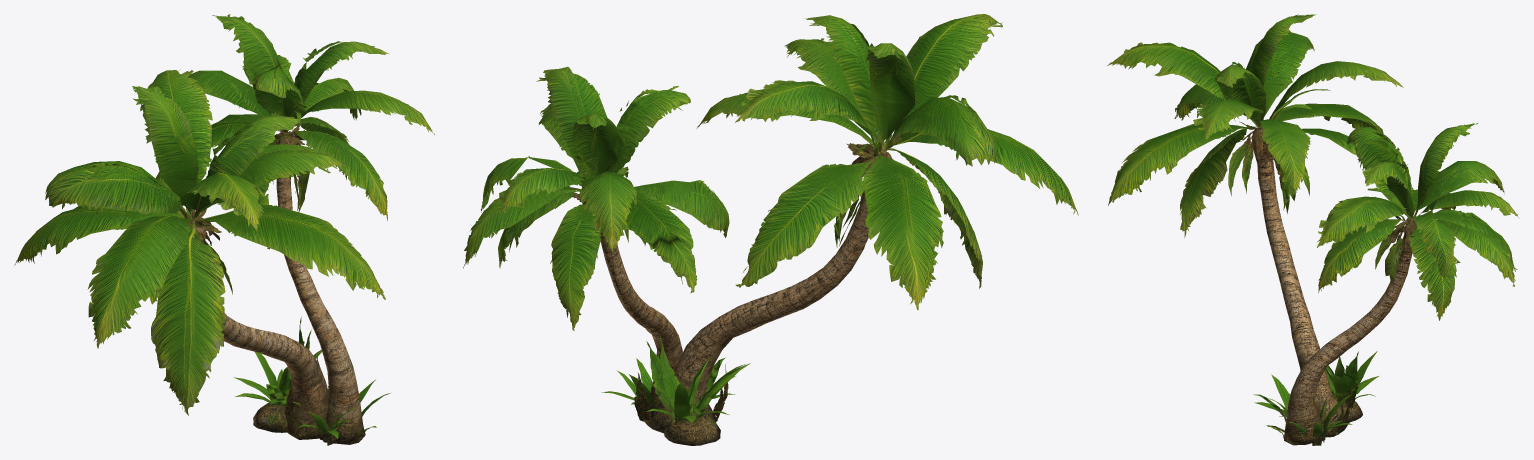
File: low_poly_coconut_palm_tree_3d_model_free.glb
3 views of the same model, side by side, from view 1: azimuth 30°, elevation 25°; view 2: azimuth 150°, elevation 25°; view 3: azimuth 270°, elevation 25° (orthographic). The views are drawn at different scales.
Parts seen in each view (by area): view 1: Model_0; view 2: Model_0; view 3: Model_0.
Boxes of the visible parts, x1,y1,x2,y2 form: Model_0: [14, 14, 434, 445]; Model_0: [463, 14, 1078, 445]; Model_0: [1107, 14, 1519, 445].
Bounding box in the file's own units: 1 × 0.91 × 1.
Materials: 1 (1 with a texture image).
